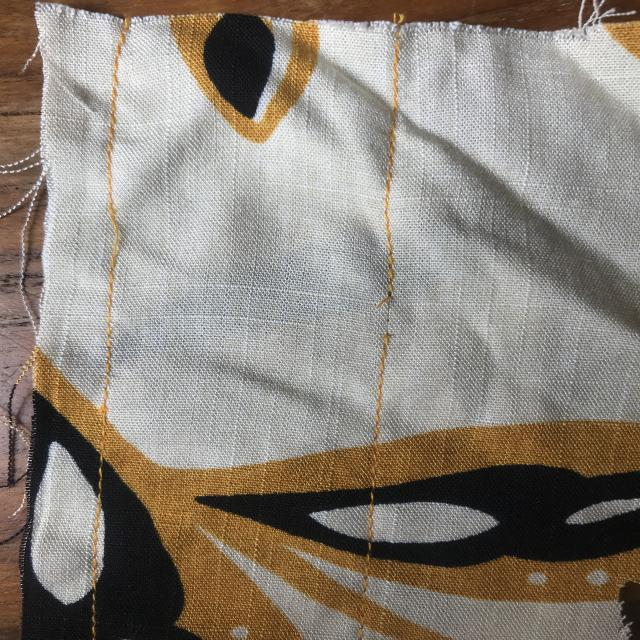broken: (366, 273, 419, 352)
skip: (91, 195, 131, 275)
